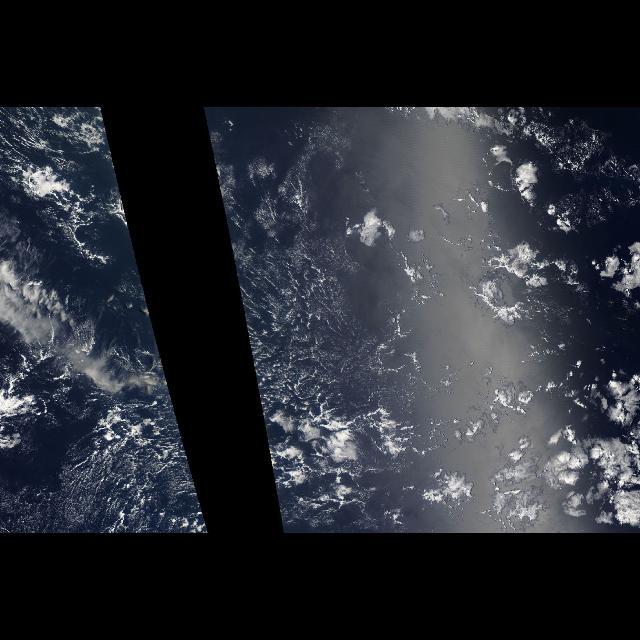Gravel: (64, 391, 210, 534)
Sugar: (204, 120, 350, 402), (12, 412, 208, 528), (162, 360, 172, 402)
